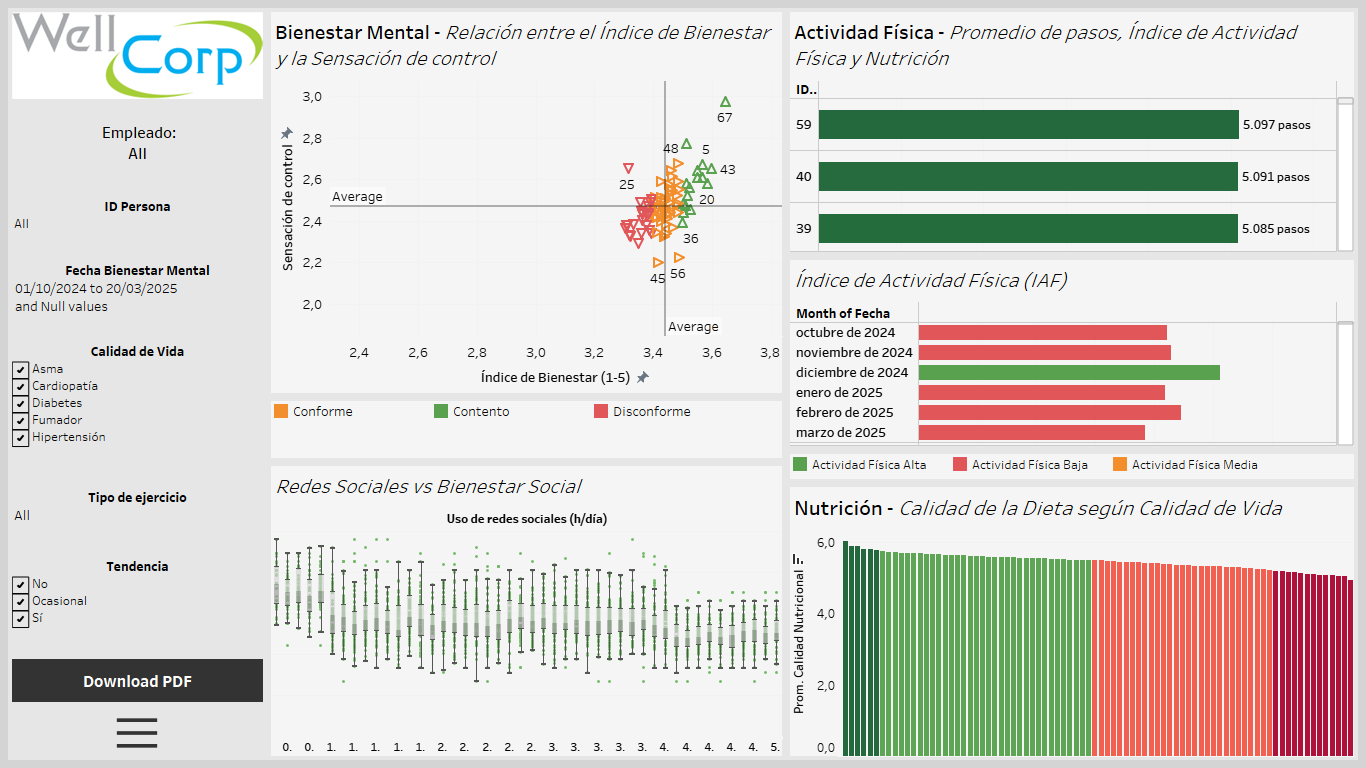

Layout of this report page (visuals, bound fields, positions):
{"tool":"tableau","page":{"name":"Trabajo Final","canvas":[1366,768],"ordinal":0},"visuals":[{"type":"blank","box":[631,0,172,766]},{"type":"image","param":"Image/images.png","box":[1,1,632,79]},{"type":"worksheet","title":"Nombre empleado","mark":"Area","box":[634,3,166,76]},{"type":"worksheet","title":"Insight 3: Actividad Física (pasos)","mark":"Automatic","rows":["ID Persona (Personas.csv)","Calculation_639511208691589121"],"cols":["NÃºmero total de pasos"],"box":[803,3,559,255]},{"type":"worksheet","title":"Insight 1: Bienestar Mental (IB)","mark":"Automatic","rows":["SensaciÃ³n de control (1-5)"],"cols":["Calculation_688769328451043328"],"box":[3,80,625,374]},{"type":"filter","title":"Insight 3: Actividad Física (pasos)","param":"[federated.1nsdtz41rwm74n190jgk10iqf51p].[none:ID Persona (Personas.csv):ok]","box":[633,83,167,60]},{"type":"filter","title":"Insight 1: Bienestar Mental (IB)","param":"[federated.1nsdtz41rwm74n190jgk10iqf51p].[none:Fecha (Bienestar Mental.csv):qk]","box":[634,146,166,57]},{"type":"filter","title":"Insight 4: Actividad física (IAF)","param":"[federated.1nsdtz41rwm74n190jgk10iqf51p].[none:Tipo de ejercicio:nk]","box":[634,219,166,204]},{"type":"worksheet","title":"Insight 4: Actividad física (IAF)","mark":"Bar","rows":["ID Persona (Personas.csv)","Fecha"],"cols":["Calculation_567735088169103366"],"box":[802,259,560,183]},{"type":"text","box":[1031,298,317,453]},{"type":"legend","title":"Insight 1: Bienestar Mental (IB)","param":"[federated.1nsdtz41rwm74n190jgk10iqf51p].[usr:Calculation_552535440248233988:nk]","box":[66,305,138,87]},{"type":"filter","title":"Insight 5: Nutrición y Calidad de vida","param":"[federated.1nsdtz41rwm74n190jgk10iqf51p].[none:Pivot Field Names:nk]","box":[634,426,166,136]},{"type":"worksheet","title":"Insight 5: Nutrición y Calidad de vida","mark":"Automatic","rows":["Calculation_639511208727093266"],"cols":["ID Persona (Personas.csv)"],"box":[804,445,548,310]},{"type":"worksheet","title":"Insight 2: Bienestar Mental (rrss)","mark":"Circle","rows":["Calculation_496521920275193856"],"cols":["Uso de redes sociales (h/dÃa)"],"box":[3,446,625,320]},{"type":"filter","title":"Insight 5: Nutrición y Calidad de vida","param":"[federated.1nsdtz41rwm74n190jgk10iqf51p].[none:Pivot Field Values:nk]","box":[634,577,167,100]},{"type":"dashboard-object","box":[682,662,69,54]},{"type":"dashboard-object","box":[634,712,166,53]}]}

Visuals, with their boxes in screenshot pixels (x1, y1, x2, y2), scaled from the page's 1366x768 canvas onto the 1366x768 screenshot:
blank: box=[631, 0, 803, 766]
image: box=[1, 1, 633, 80]
"Nombre empleado" worksheet (Area marks): box=[634, 3, 800, 79]
"Insight 3: Actividad Física (pasos)" worksheet: box=[803, 3, 1362, 258]
"Insight 1: Bienestar Mental (IB)" worksheet: box=[3, 80, 628, 454]
"Insight 3: Actividad Física (pasos)" filter: box=[633, 83, 800, 143]
"Insight 1: Bienestar Mental (IB)" filter: box=[634, 146, 800, 203]
"Insight 4: Actividad física (IAF)" filter: box=[634, 219, 800, 423]
"Insight 4: Actividad física (IAF)" worksheet (Bar marks): box=[802, 259, 1362, 442]
text: box=[1031, 298, 1348, 751]
"Insight 1: Bienestar Mental (IB)" legend: box=[66, 305, 204, 392]
"Insight 5: Nutrición y Calidad de vida" filter: box=[634, 426, 800, 562]
"Insight 5: Nutrición y Calidad de vida" worksheet: box=[804, 445, 1352, 755]
"Insight 2: Bienestar Mental (rrss)" worksheet (Circle marks): box=[3, 446, 628, 766]
"Insight 5: Nutrición y Calidad de vida" filter: box=[634, 577, 801, 677]
dashboard-object: box=[682, 662, 751, 716]
dashboard-object: box=[634, 712, 800, 765]
